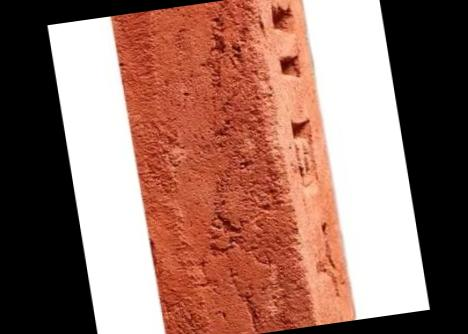brick: (109, 0, 315, 334)
